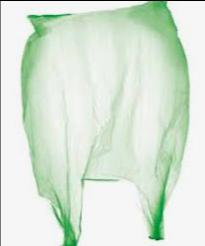Plastic: (12, 1, 187, 245)
